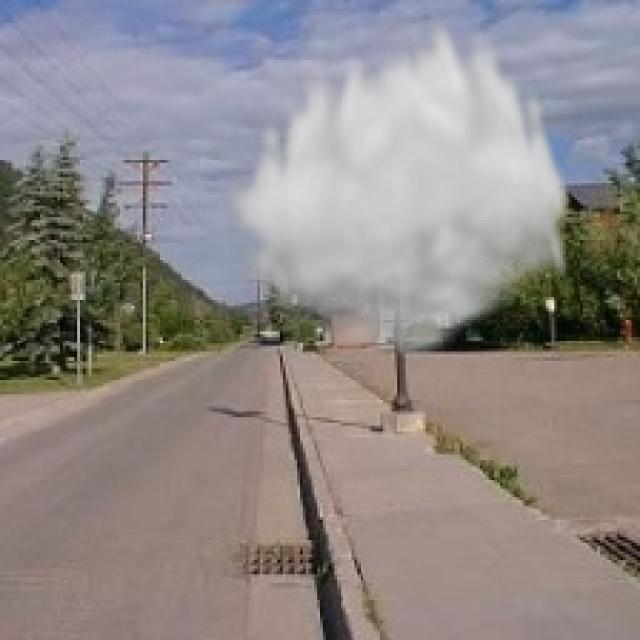Smoke: (222, 8, 574, 363)
